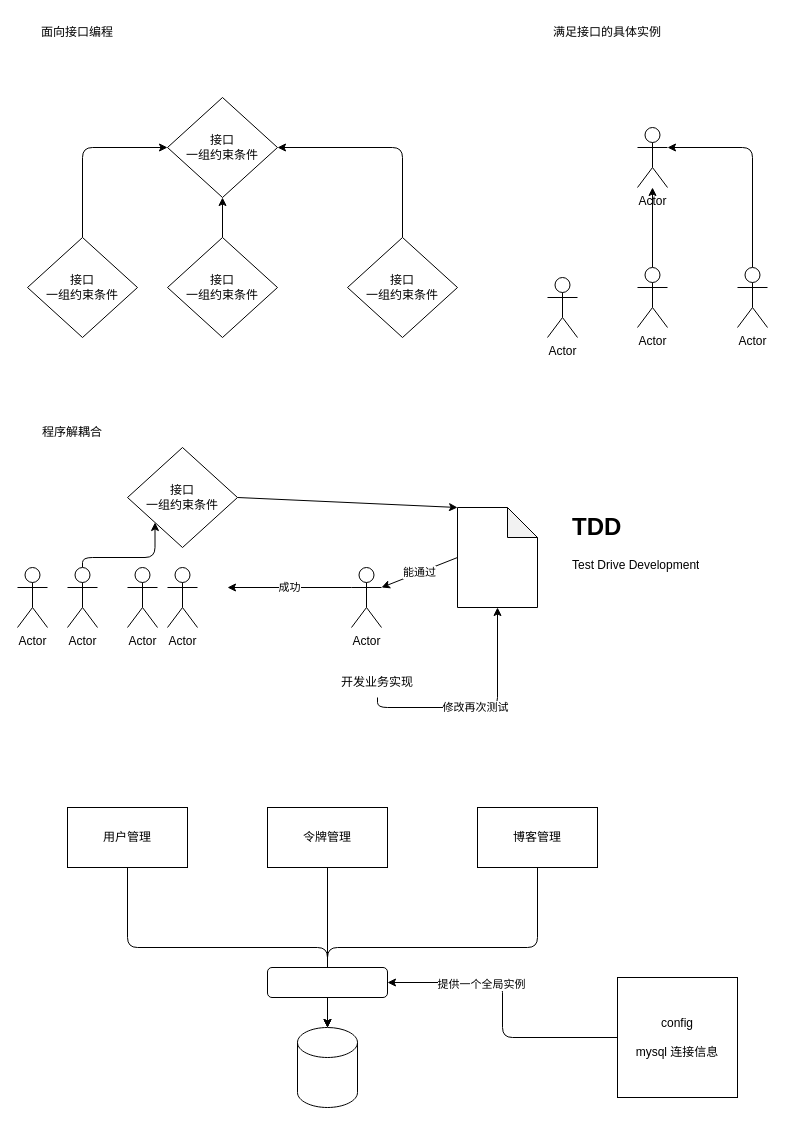
Some shapes in this 785 by 1125 pixel diagram are drawn without their labels. The shapes that lost their labels are listed below. From the top down, each one's centre as x and y in pixels, then its label:
At point 497,557: "测验单 单元测试 paas".
At point 327,982: "db conn pool".
At point 327,1067: "db".
